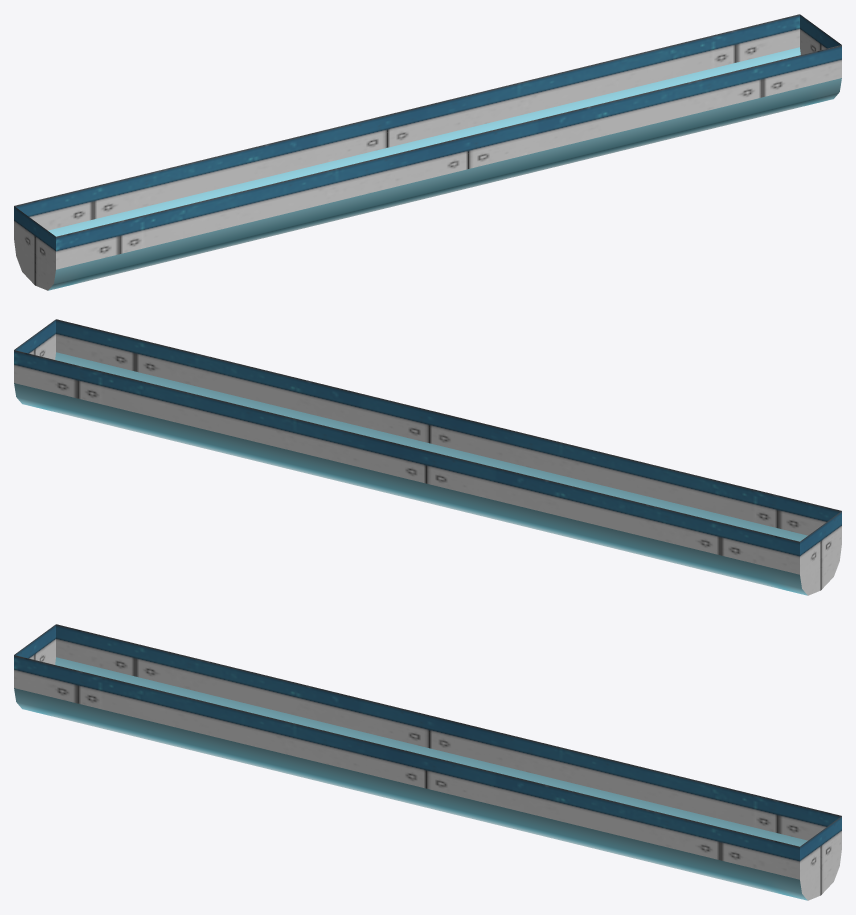
Rendered from Neon_Up_02.FBX.
3 views of the same model, one above another, from view 1: azimuth 30°, elevation 25°; view 2: azimuth 150°, elevation 25°; view 3: azimuth 330°, elevation 25° (orthographic).
Parts seen in each view (by area): view 1: Neon_Up_02, Neon; view 2: Neon_Up_02, Neon; view 3: Neon_Up_02, Neon.
Boxes of the visible parts, left/top/right/bottom form: Neon_Up_02: left=14, top=14, right=841, bottom=290; Neon: left=48, top=47, right=841, bottom=290; Neon_Up_02: left=14, top=319, right=841, bottom=595; Neon: left=14, top=352, right=807, bottom=595; Neon_Up_02: left=14, top=624, right=841, bottom=900; Neon: left=14, top=657, right=807, bottom=900.
Bounding box in the file's own units: 99.98 × 7.81 × 9.28.
